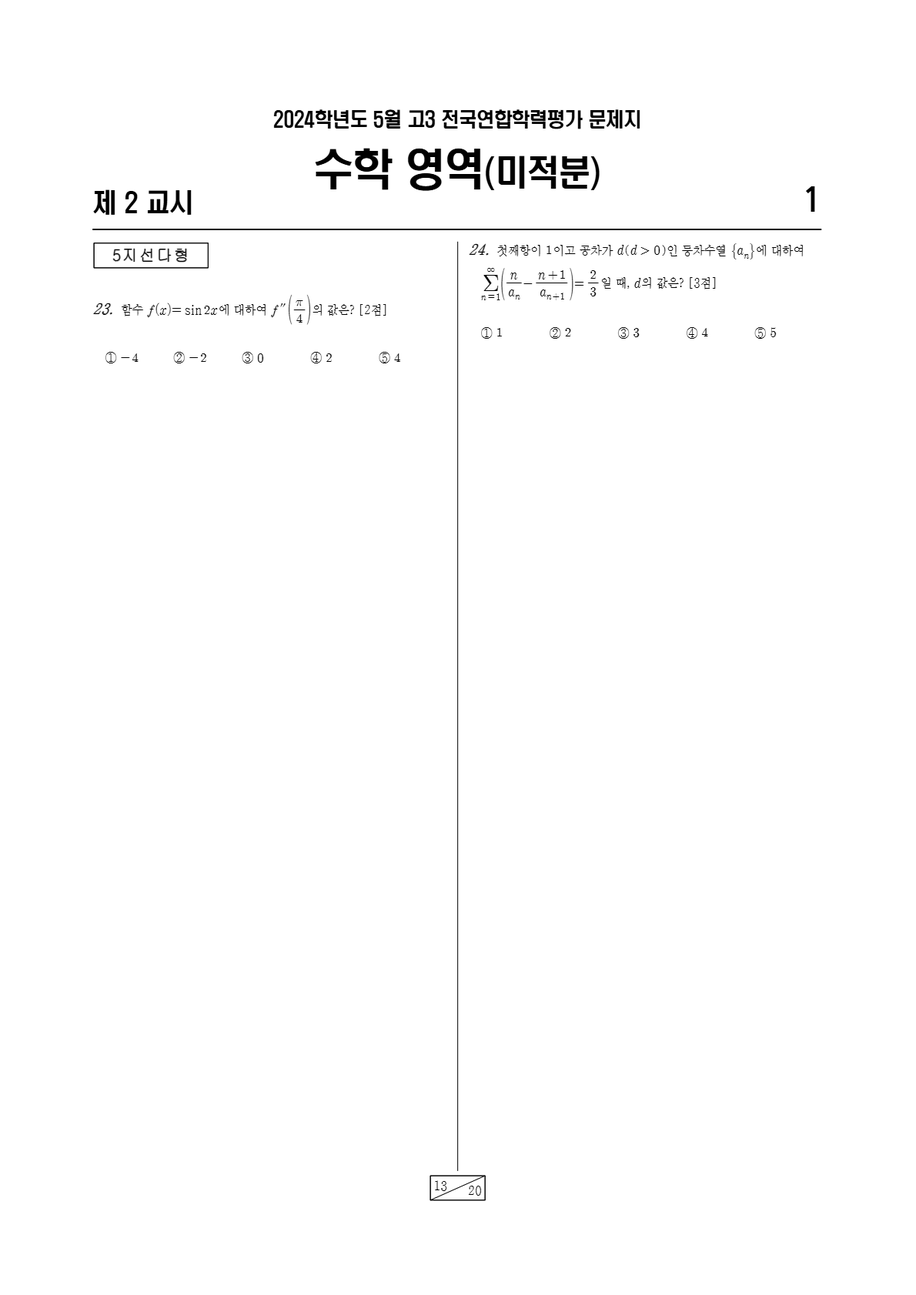opt_1: (102, 346, 118, 364), (480, 326, 492, 340)
opt_2: (173, 350, 185, 363), (549, 326, 560, 339)
opt_3: (241, 350, 254, 363), (617, 325, 628, 339)
opt_4: (309, 350, 323, 363), (686, 326, 697, 339)
opt_5: (378, 350, 391, 364), (754, 325, 765, 339)
